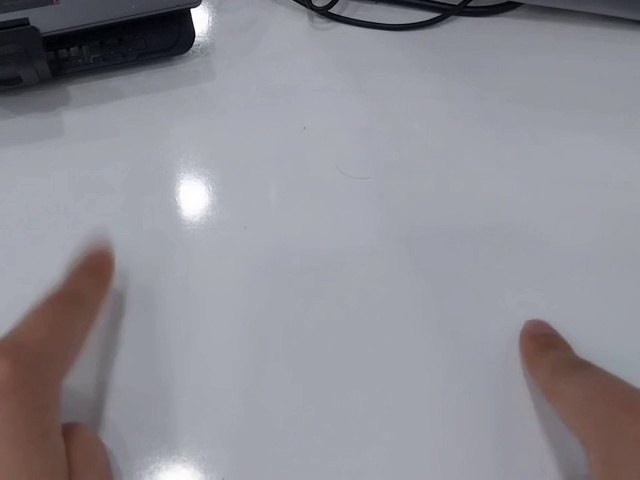fingers: (62, 244, 116, 305), (518, 318, 574, 372)
